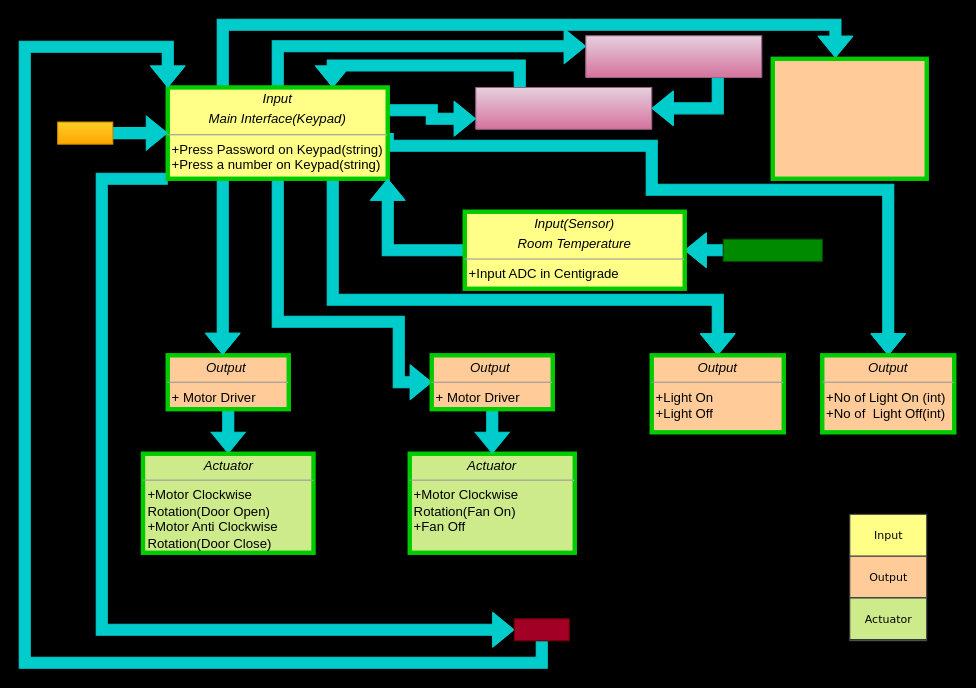
This 976x688 diagram has some shape labels left out. Here are the shapes that lost their labels. From the top down, the centre of each, then its label:
(x=673, y=56): Password Reset
(x=563, y=107): Password Check
(x=849, y=118): Output LCD +Input Char +Prints Character +Input String +Prints String
(x=85, y=132): User
(x=772, y=249): Environment
(x=541, y=629): Restart
